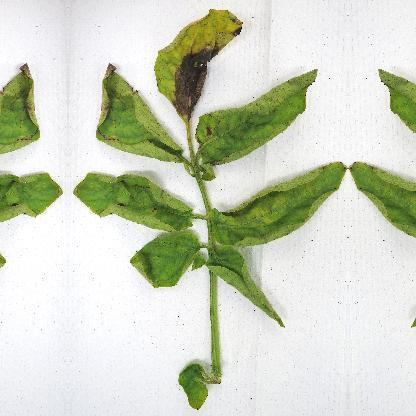Late-Blight: (71, 5, 333, 341), (0, 5, 63, 341), (362, 5, 416, 341)
